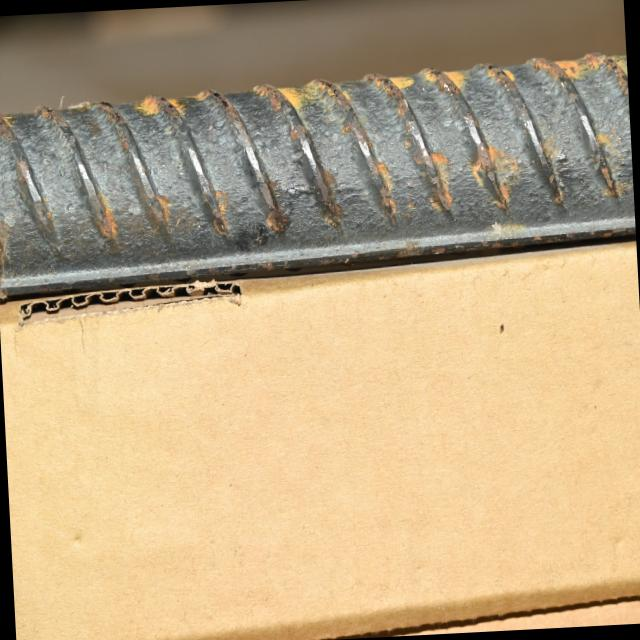ribbed bar: (0, 44, 638, 309)
